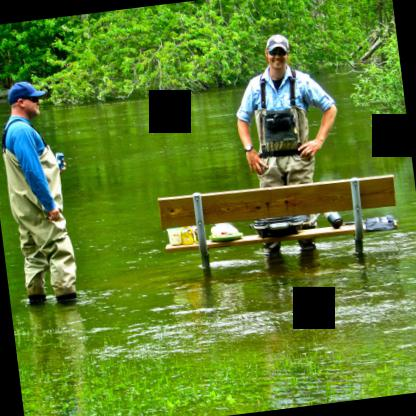backpack: (254, 74, 307, 157)
